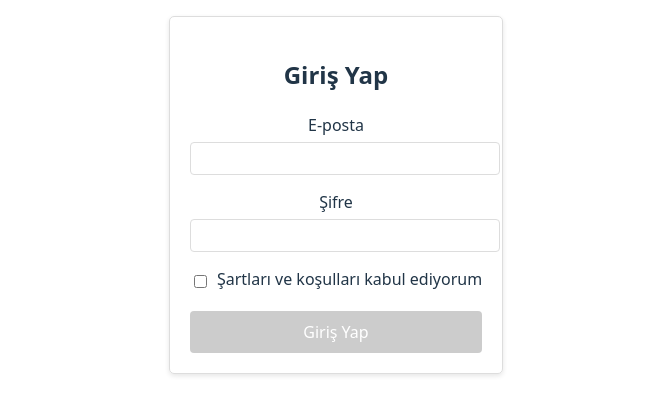
it: Login Form Tests › successfully submits the form with valid inputs
Type "valid@email.com" into the field with test id "email-input". click: x=345, y=159
box: top-left (190, 142), bottom-right (500, 175)
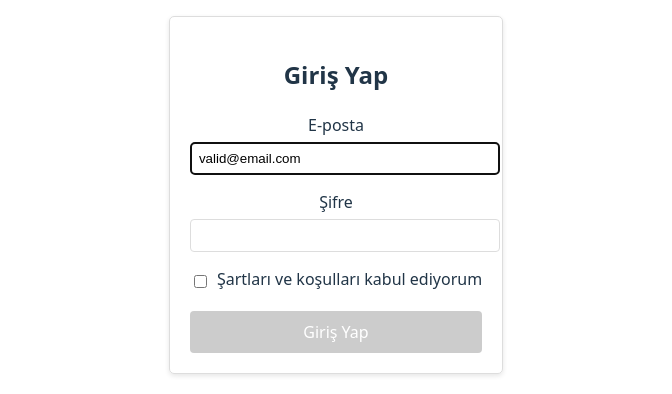
Type "ValidPass1" into the password field with test id "password-input". click: x=345, y=236
box: top-left (190, 219), bottom-right (500, 252)
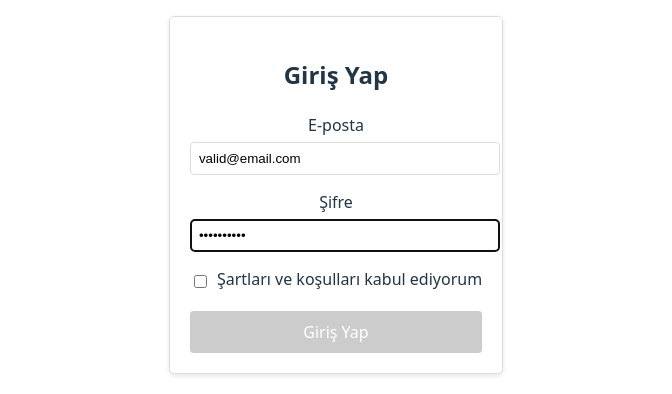
Click the checkbox with test id "terms-checkbox". click: x=201, y=282
box: top-left (194, 275), bottom-right (207, 288)
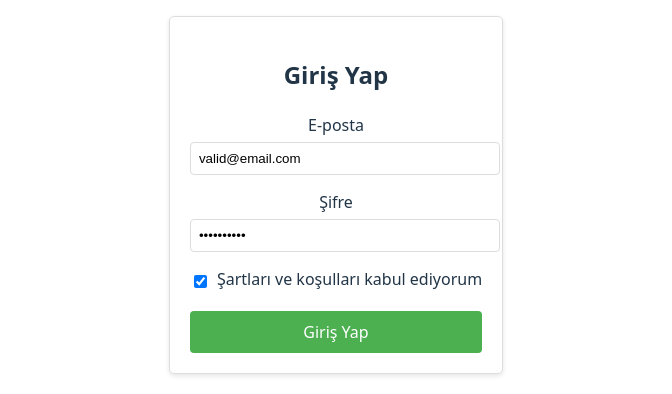
Expected: the element with test id "login-button" is enabled
Submit the form with test id "login-form", box top-left (190, 113), bottom-right (482, 353)
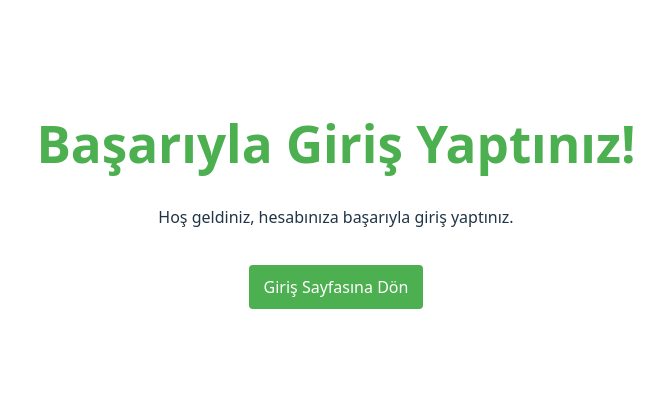
Expected: the element with test id "success-page" is shown
